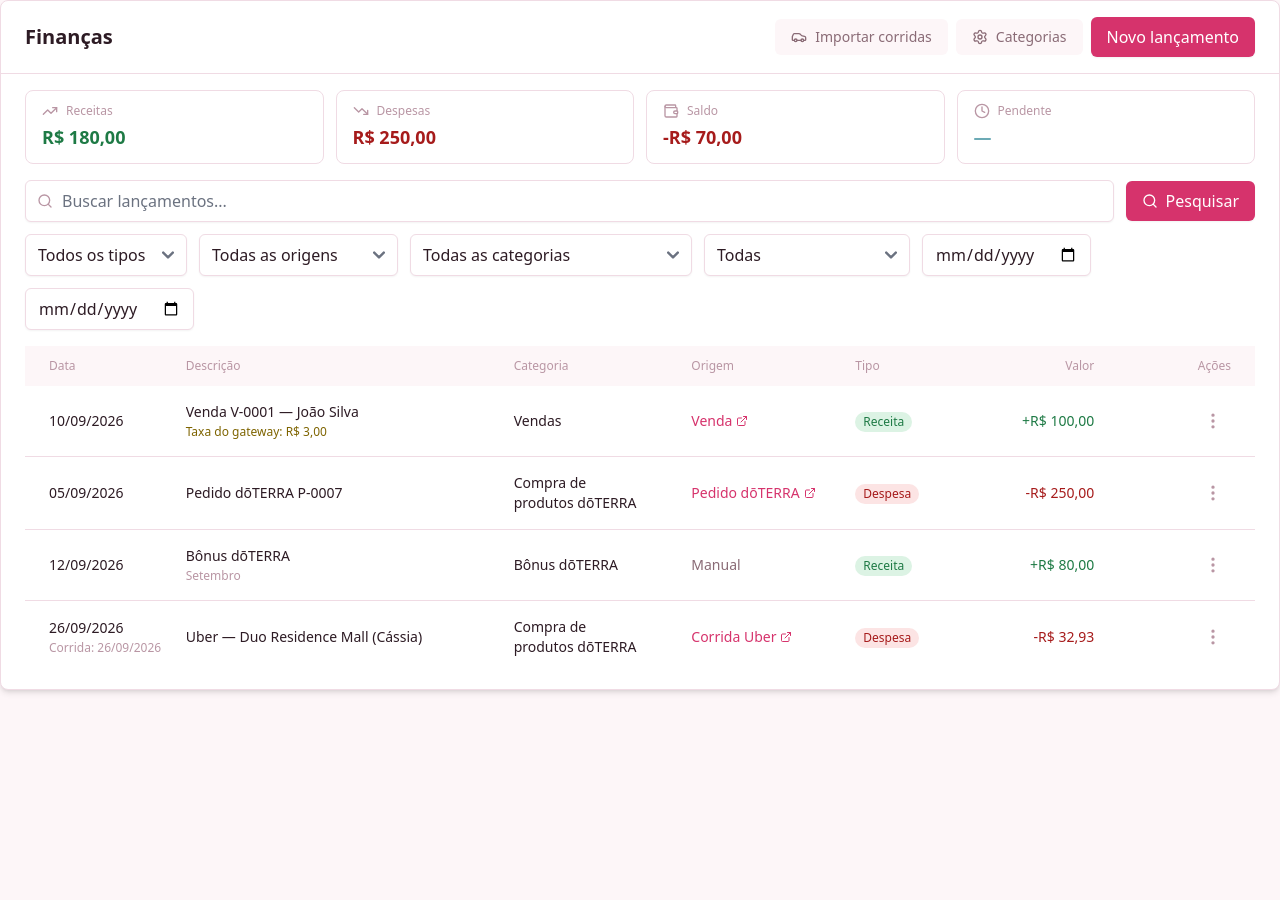
FinancesPage › opens the Uber rides import modal from the header button after dismissing the orientation
The width and height of the screenshot is (1280, 900).
Expected: the text "Venda V-0001 — João Silva" is shown, [186,402,359,421]
Click the button with test id "finances-uber-import-open". click: point(862, 37)
box: [775,19,948,55]
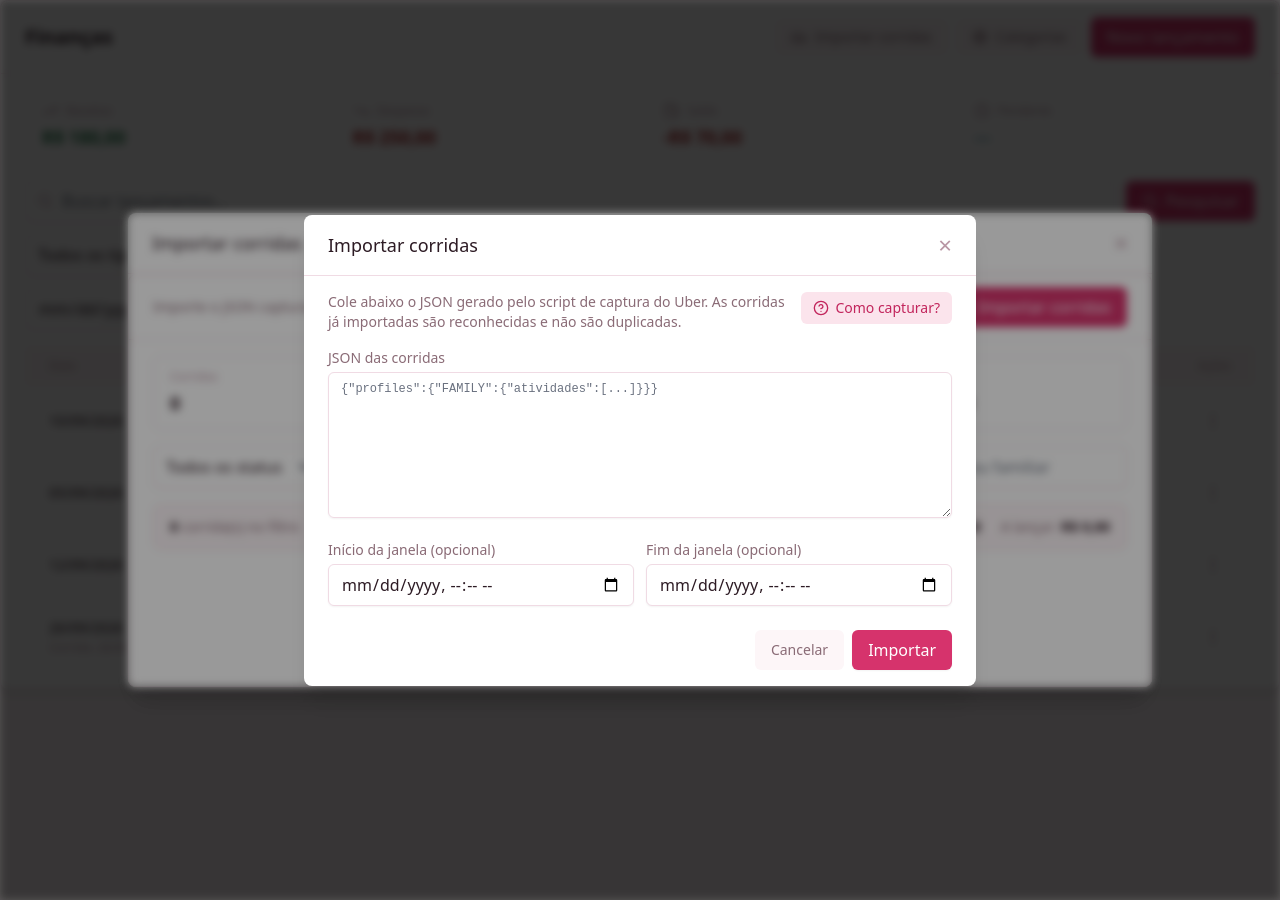
Now the element with test id "uber-rides-embedded-modal" is shown
Now the element with test id "uber-ride-import-modal" is shown
